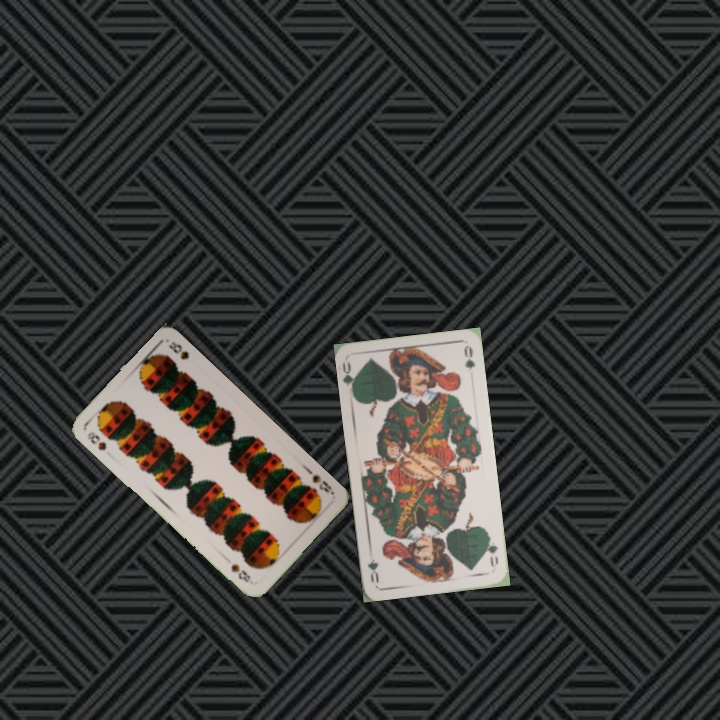GO: (338, 357, 360, 398), (482, 531, 501, 569)
S8: (308, 470, 337, 498), (83, 428, 109, 453)
